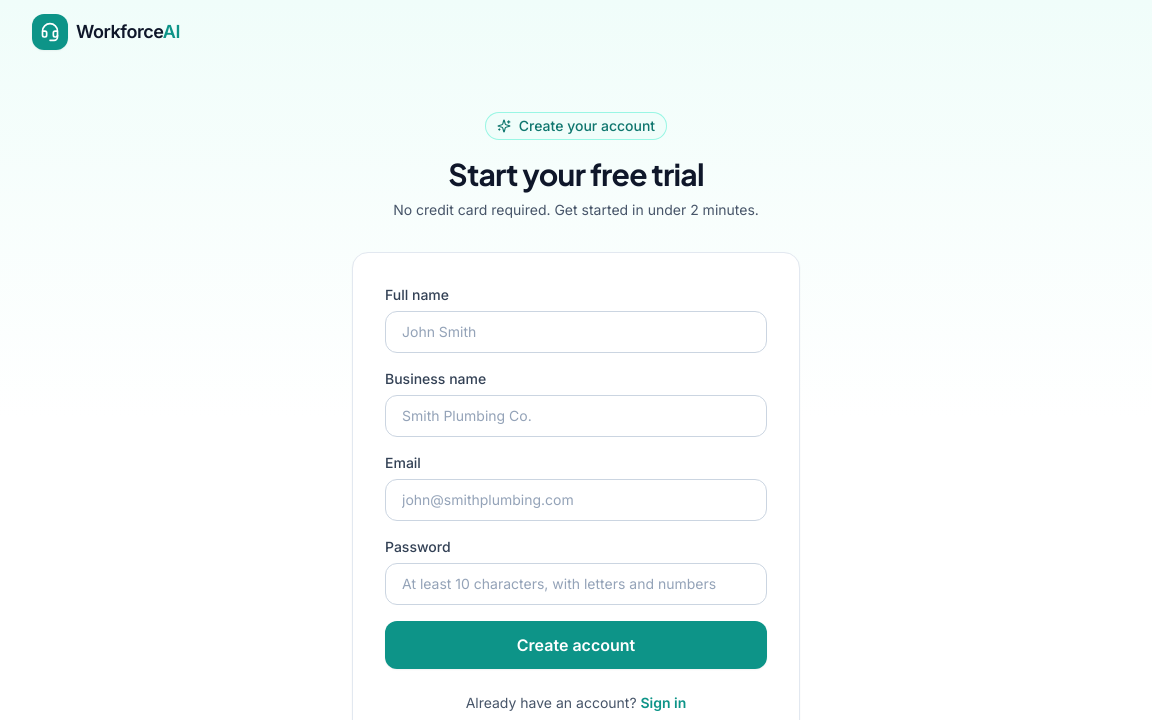
Test: AuthPage password recovery › sends a reset link to the entered email
Click the button "Sign in": [663, 703] box left=640, top=693, right=686, bottom=713
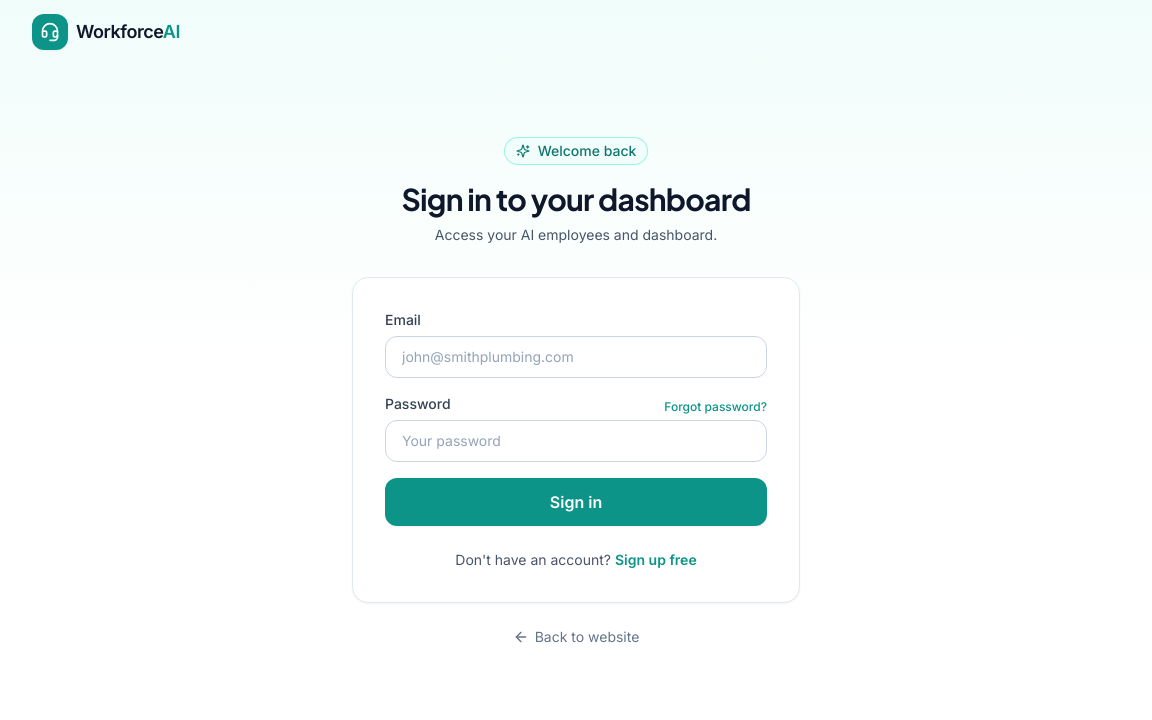
Click the button "Forgot password?": [716, 407] box left=664, top=399, right=767, bottom=415
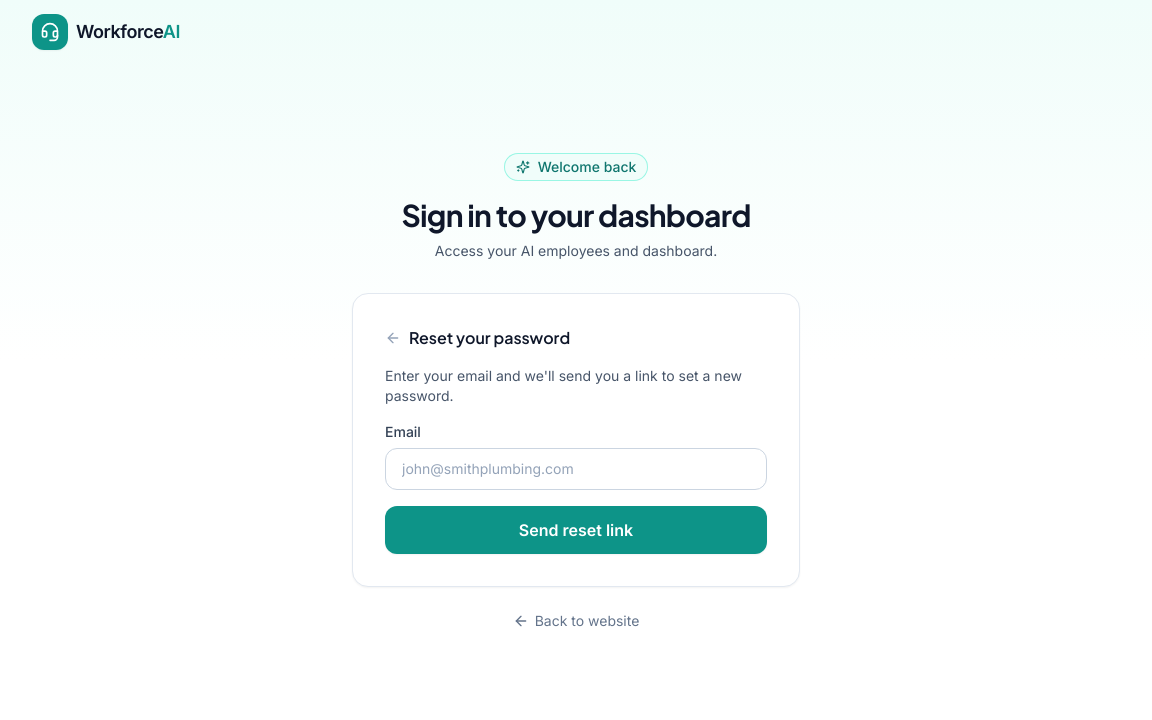
In the field labelled "Email": [576, 469] box left=385, top=448, right=767, bottom=490, type "jane@example.com"
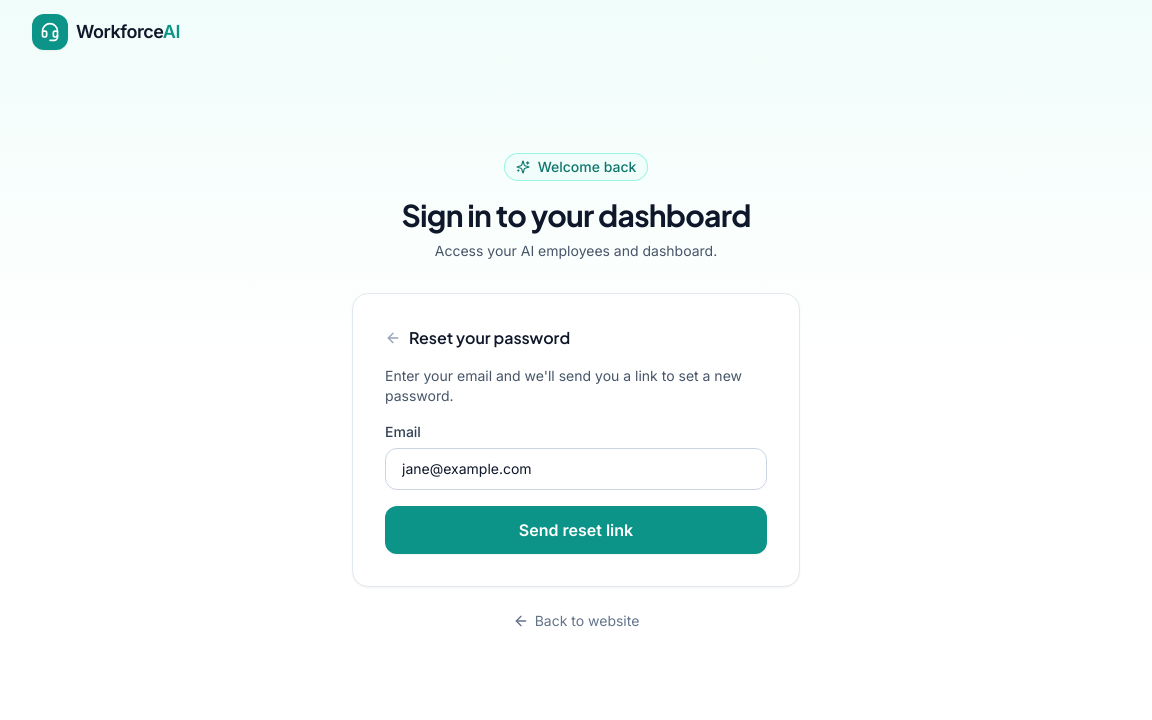
Click the button "Send reset link": [576, 530] box left=385, top=506, right=767, bottom=554
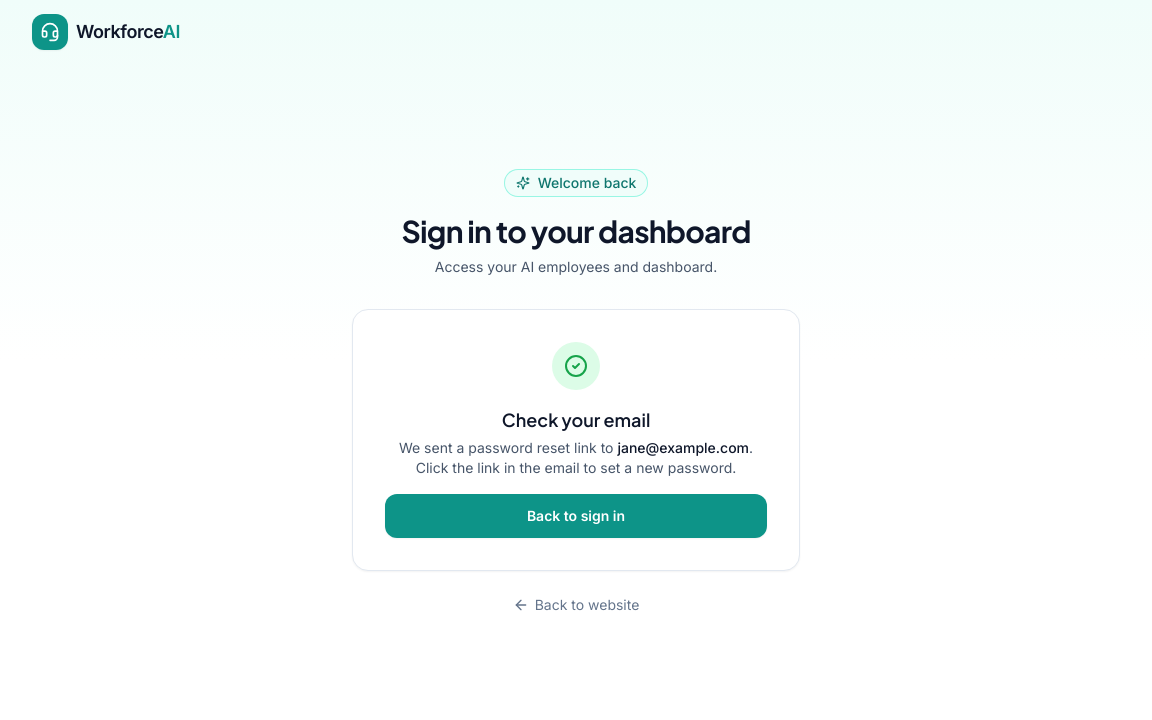
Expected: the text "We sent a password reset link to" is shown, left=399, top=439, right=617, bottom=456
